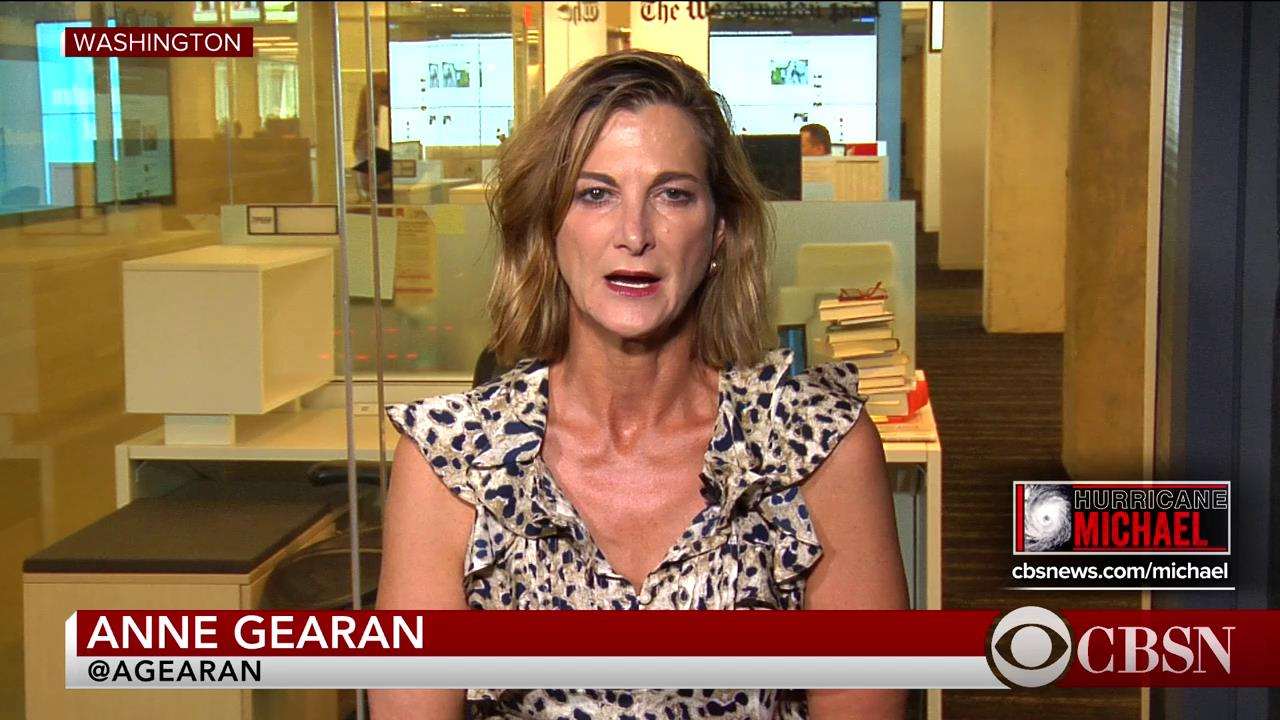@AGEARAN: (84, 656, 263, 687)
ANNE GEARAN: (82, 610, 427, 652)
CBSN: (1072, 623, 1237, 681)
HURRICANE: (1074, 483, 1227, 511)
MICHAEL: (1073, 510, 1209, 548)
The Washington Post: (637, 1, 885, 25)
WASHINGTON: (72, 26, 244, 55)
cbsnews.com/michael: (1007, 555, 1232, 584)
